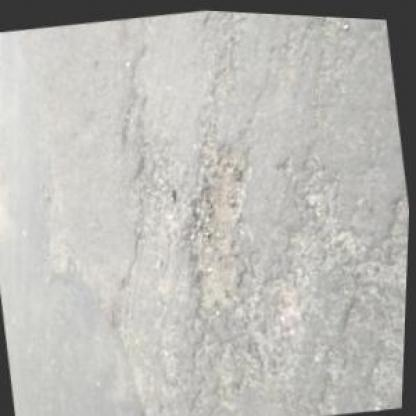pothole: (170, 133, 278, 316), (123, 146, 186, 237)
